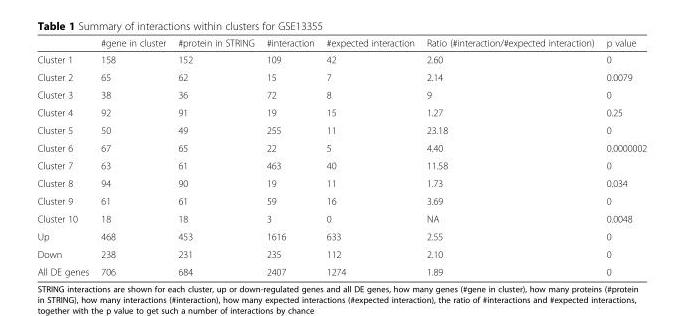table: (36, 36, 646, 277)
table column: (419, 36, 599, 277), (319, 36, 419, 277), (171, 36, 259, 277), (94, 36, 171, 277), (259, 36, 319, 277), (36, 36, 94, 277), (599, 36, 646, 277)
table column header: (36, 36, 646, 50)
table row: (36, 67, 646, 85), (36, 85, 646, 103), (36, 103, 646, 121), (36, 138, 646, 156), (36, 156, 646, 174), (36, 191, 646, 209), (36, 209, 646, 227), (36, 244, 646, 262), (36, 50, 646, 67), (36, 121, 646, 138), (36, 174, 646, 191), (36, 227, 646, 244), (36, 262, 646, 277), (36, 36, 646, 50)
